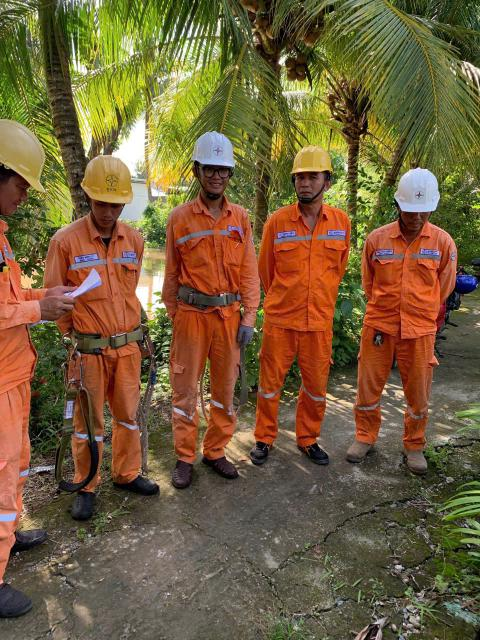gloves: (233, 321, 257, 351)
harness: (66, 323, 162, 355), (168, 277, 247, 314)
helmet: (0, 108, 69, 198), (78, 153, 140, 209), (393, 165, 446, 216), (281, 140, 336, 178), (193, 126, 239, 171)
shoes: (0, 513, 56, 558), (0, 573, 40, 627), (112, 461, 162, 504), (191, 443, 242, 484), (65, 479, 106, 524), (294, 430, 341, 467), (343, 424, 377, 471), (399, 434, 432, 479), (167, 452, 201, 492), (246, 433, 281, 467)
